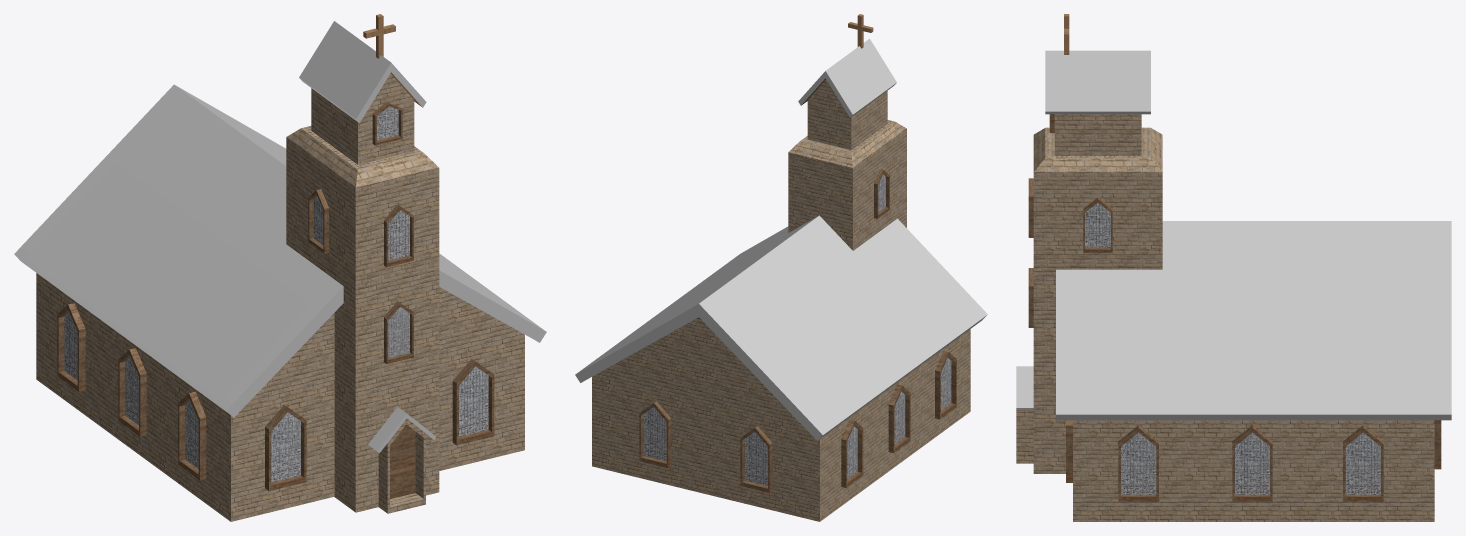
File: church.fbx
3 views of the same model, side by side, from view 1: azimuth 30°, elevation 25°; view 2: azimuth 150°, elevation 25°; view 3: azimuth 270°, elevation 25° (orthographic). The views are drawn at different scales.
Visible parts, largest first — view 1: church1; view 2: church1; view 3: church1.
Boxes of the visible parts, left/top/right/bottom form: church1: left=14, top=14, right=546, bottom=521; church1: left=575, top=14, right=987, bottom=521; church1: left=1016, top=14, right=1451, bottom=521.
Size of the model in its own units: 65.51 by 92.74 by 83.12.
